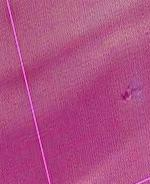knot: (119, 84, 140, 102)
